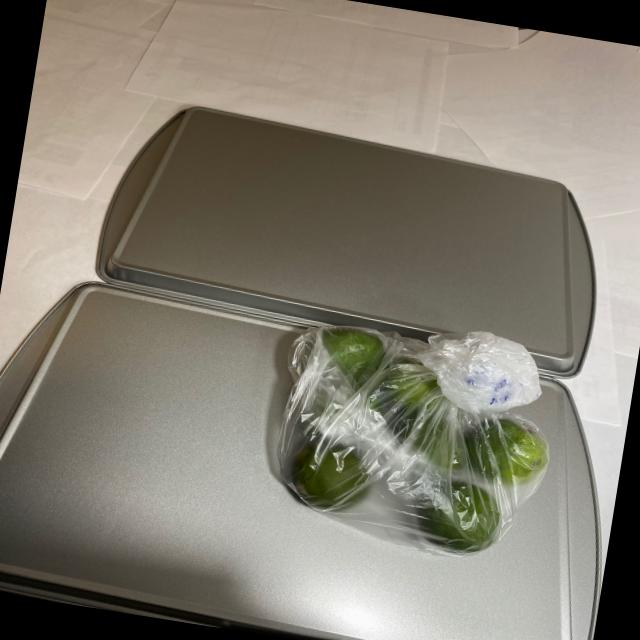lemon: (253, 314, 560, 562)
